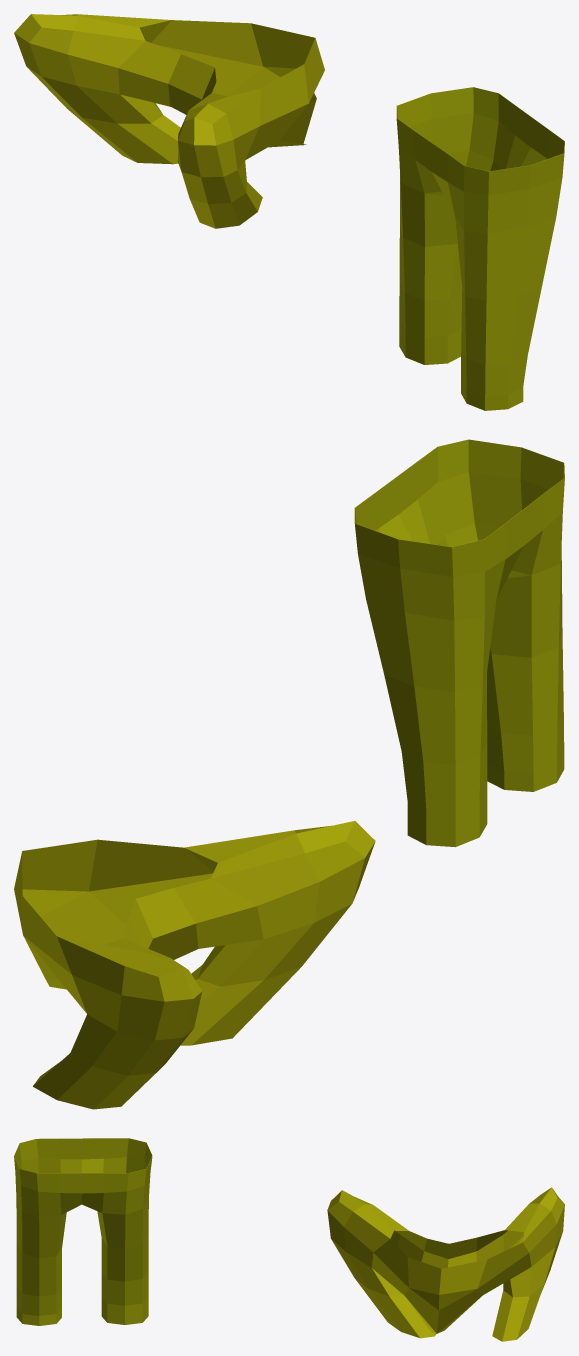
Rendered from pantalonFinal-part2.obj.
3 renders of one model, top to bottom at view 1: azimuth 30°, elevation 25°; view 2: azimuth 150°, elevation 25°; view 3: azimuth 270°, elevation 25°, orthographic. The views are drawn at different scales.
Parts seen in each view (by area): view 1: Cube.002_Cube.000, Plane.008_Plane.002; view 2: Cube.002_Cube.000, Plane.008_Plane.002; view 3: Plane.008_Plane.002, Cube.002_Cube.000.
Boxes of the visible parts, box(x1,y1,x2,y2) form: Cube.002_Cube.000: box(396, 87, 564, 410); Plane.008_Plane.002: box(14, 14, 324, 228); Cube.002_Cube.000: box(354, 439, 564, 847); Plane.008_Plane.002: box(14, 821, 375, 1109); Plane.008_Plane.002: box(327, 1187, 564, 1341); Cube.002_Cube.000: box(14, 1138, 152, 1325).
Bounding box in the file's own units: 2.62 × 2.76 × 7.88.
